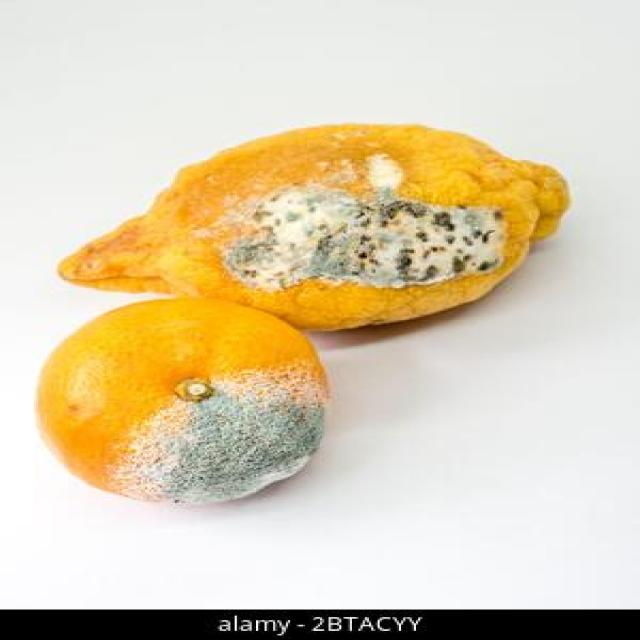Rotten: (56, 118, 574, 334), (35, 296, 333, 508)
